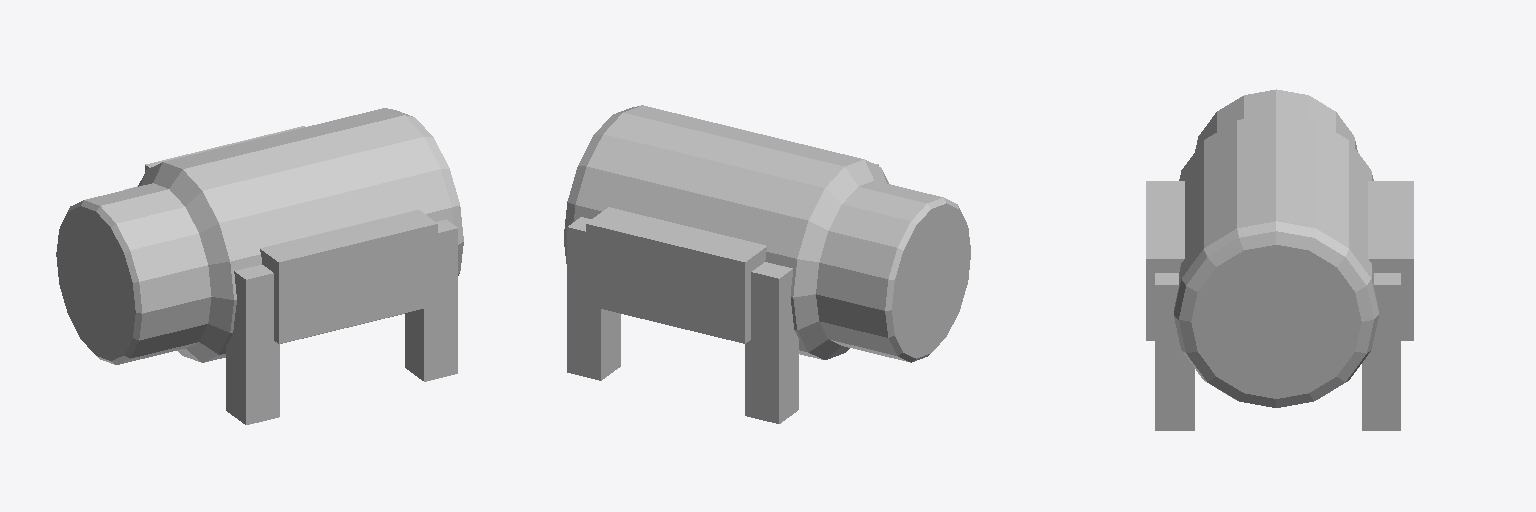
File: SaftyOutMesh.obj
3 renders of one model, left to right at view 1: azimuth 30°, elevation 25°; view 2: azimuth 150°, elevation 25°; view 3: azimuth 270°, elevation 25°, orthographic.
Visible parts, largest first — view 1: Cylinder.071; view 2: Cylinder.071; view 3: Cylinder.071.
Part boxes in pixels (x1,y1,x2,y2): Cylinder.071: (56,108,463,424); Cylinder.071: (564,105,970,423); Cylinder.071: (1146,89,1413,430).
Size of the model in its own units: 4.65 by 2.92 by 3.33.